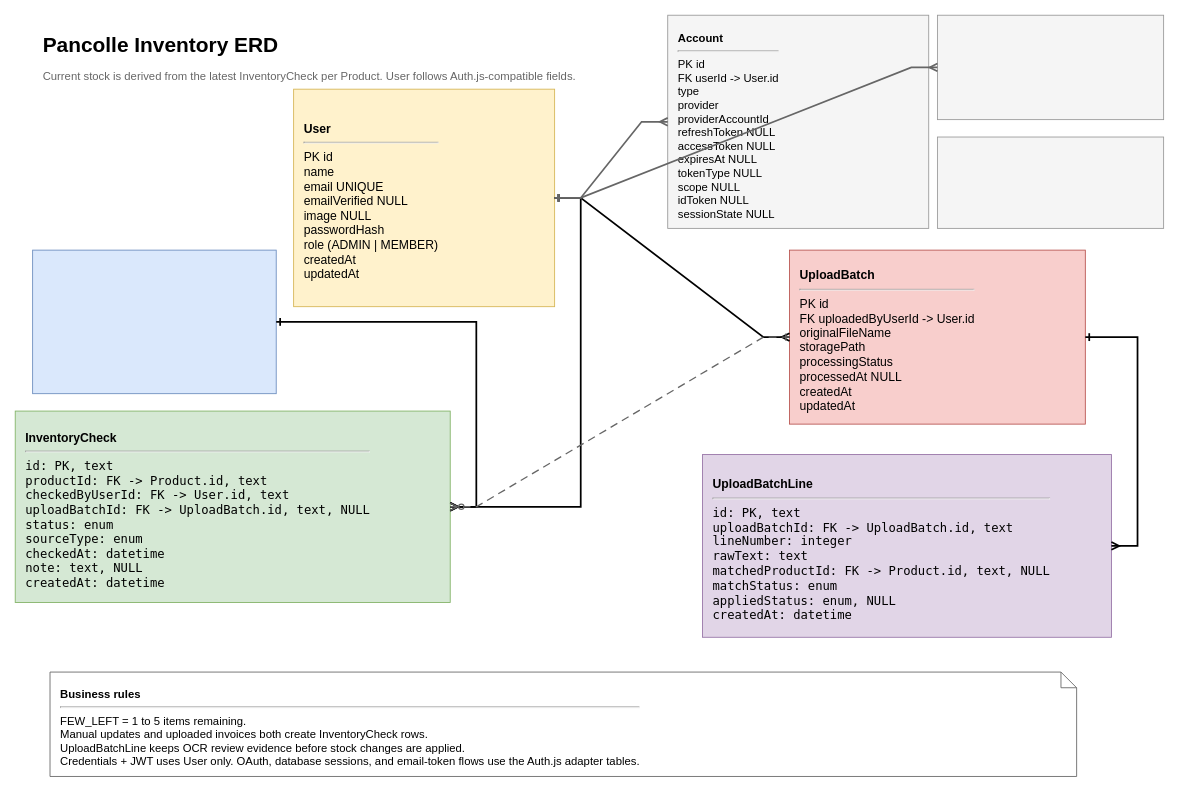
Image size: 1179x792. Some labels were removed from this diagram. The shapes that lost their labels are listed below. From the top down, each one's box as (x1, y1, x2, y2) in pixels, then its label:
(937, 14, 1164, 120): Session PK id sessionToken UNIQUE FK userId -> User.id expires
(937, 136, 1164, 228): VerificationToken identifier token UNIQUE expires
(32, 249, 276, 394): Product PK id name UNIQUE isActive createdAt updatedAt
